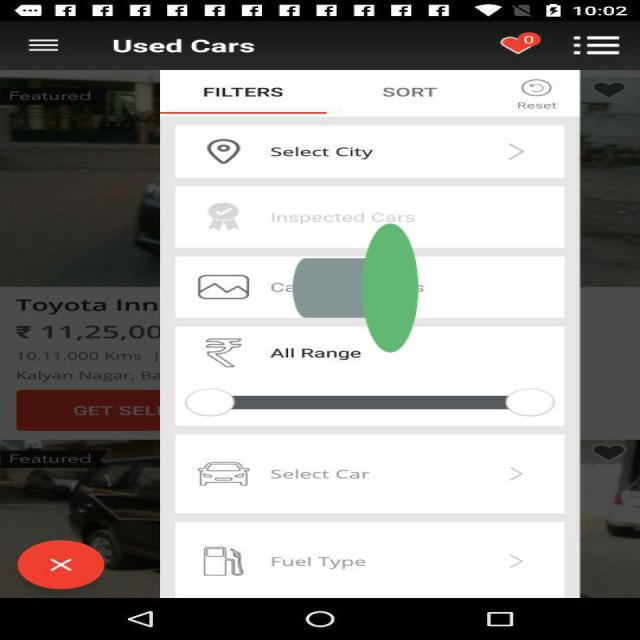social proof: (293, 144, 418, 432)
